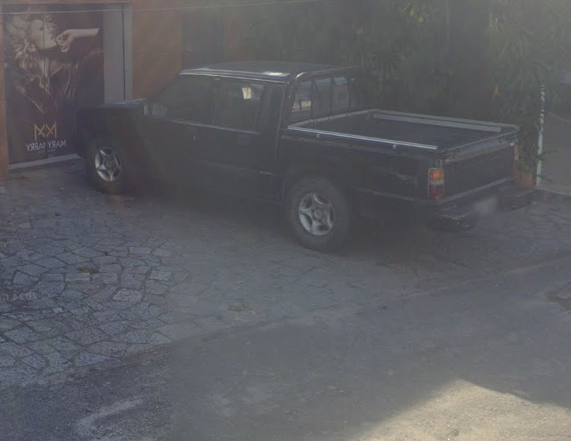car: (70, 58, 527, 256)
